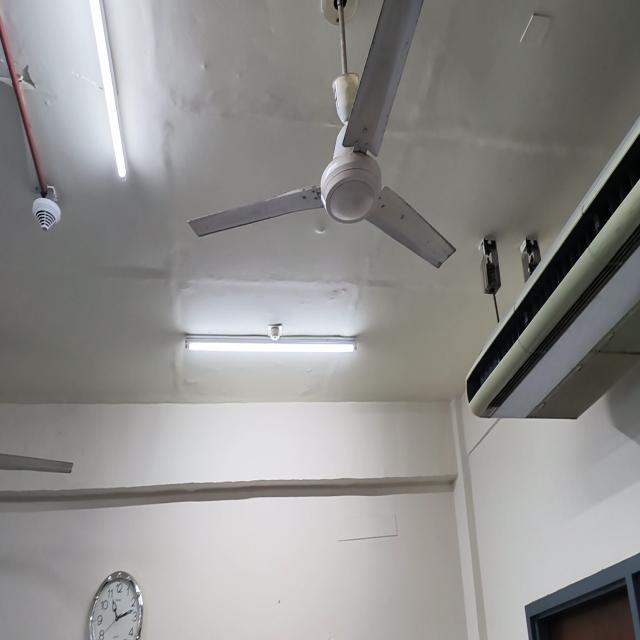Ac: (465, 119, 640, 418)
Light: (89, 0, 127, 180), (185, 334, 356, 353)
